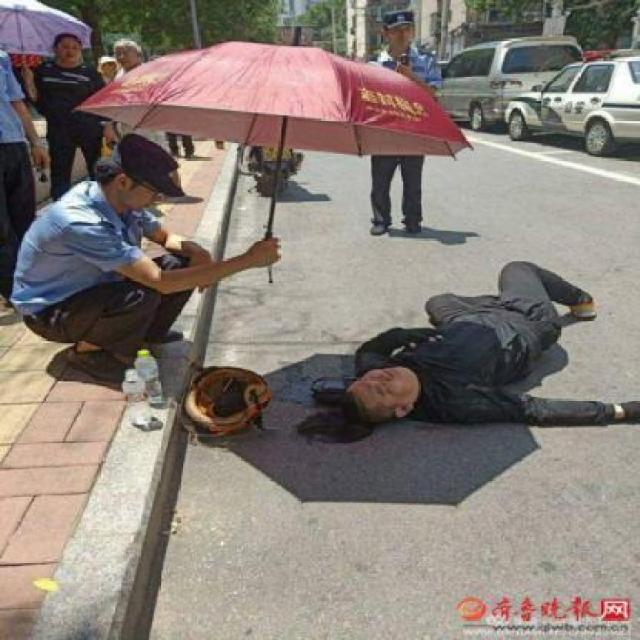fall: (292, 248, 636, 448)
